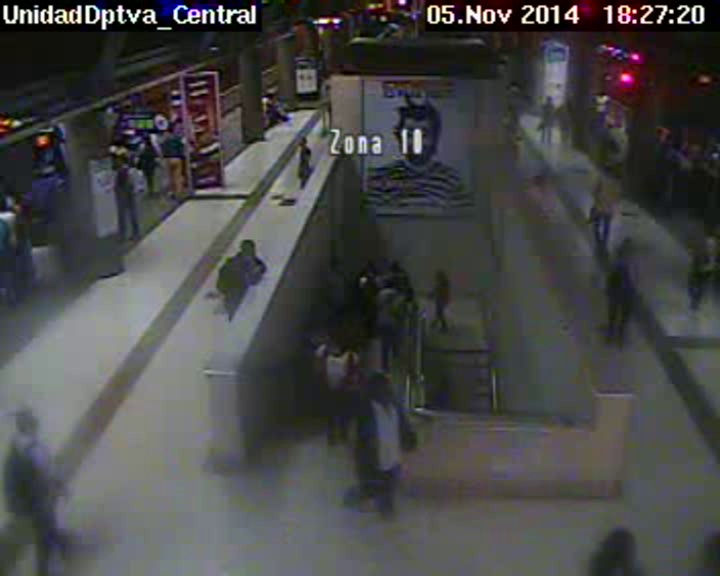person: (368, 374, 392, 401), (15, 408, 40, 432), (239, 236, 257, 257), (331, 332, 348, 350), (312, 309, 328, 327), (617, 238, 633, 255), (114, 152, 129, 168), (434, 271, 449, 286), (603, 166, 615, 181), (695, 224, 707, 239), (392, 258, 404, 271), (1, 196, 11, 210), (384, 276, 395, 288), (333, 260, 344, 272), (365, 262, 375, 273), (166, 126, 176, 137), (142, 135, 153, 145), (665, 137, 674, 148), (14, 192, 22, 203), (300, 134, 308, 144), (505, 107, 513, 117), (656, 128, 664, 138), (545, 95, 553, 103), (510, 80, 518, 88), (560, 98, 566, 107), (321, 74, 328, 81), (516, 133, 523, 140), (598, 113, 605, 120), (598, 88, 604, 95), (266, 93, 272, 99)
